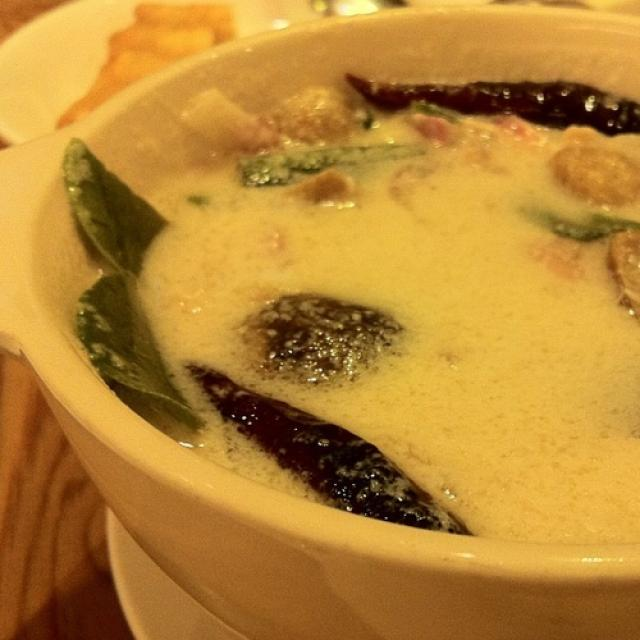汤锅炖物: (9, 16, 637, 604)
